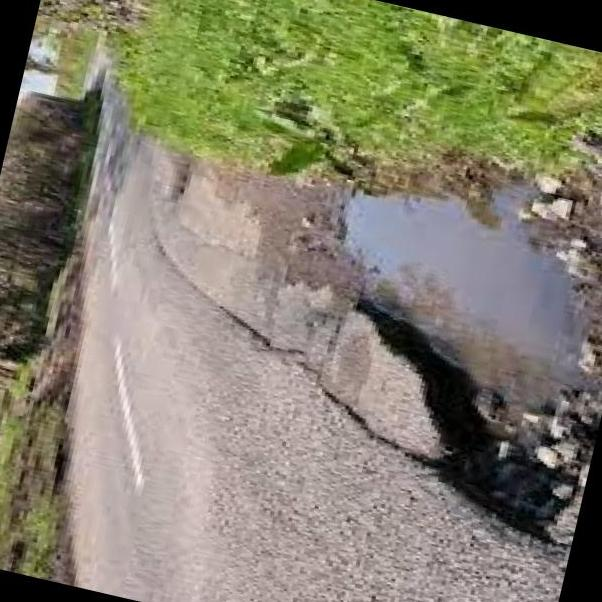pothole: (258, 150, 602, 557)
